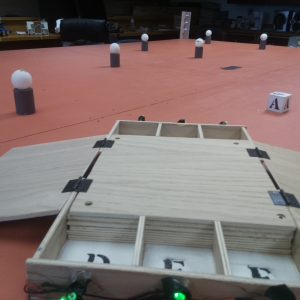blockA: (264, 87, 295, 116)
corner: (179, 11, 190, 38)
obstacle: (8, 66, 41, 117), (107, 37, 124, 68), (192, 37, 204, 60), (256, 30, 268, 50), (142, 33, 151, 54), (206, 30, 213, 44)
side: (40, 211, 297, 300), (112, 116, 253, 141)
slope: (1, 136, 117, 196), (249, 142, 300, 206)
start: (221, 62, 245, 77)
